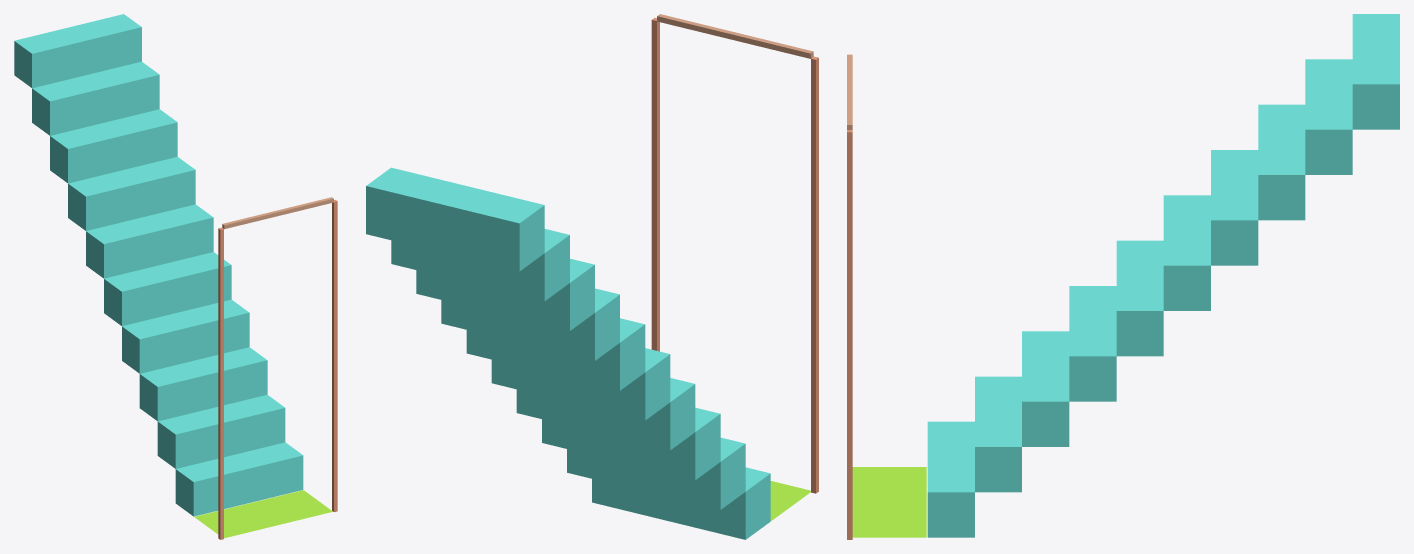
The model's file is stairs.fbx.
The picture shows the model from 3 angles, left to right: view 1: azimuth 30°, elevation 25°; view 2: azimuth 150°, elevation 25°; view 3: azimuth 270°, elevation 25°; orthographic projection. The views are drawn at different scales.
Parts seen in each view (by area): view 1: Step9, Step6, Step7, Step8, Step5, Step4, Step, Step1, Step2, Step3, Plane, Box1 (+2 smaller); view 2: Step9, Step3, Step4, Step5, Step2, Step, Step8, Step1, Step6, Step7, Box1, Box (+2 smaller); view 3: Step, Step4, Step7, Step3, Step9, Step2, Step6, Step8, Step5, Step1, Plane, Box.
Boxes of the visible parts, x1,y1,x2,y2 form: Step9: (14, 14, 141, 88); Step6: (68, 156, 195, 230); Step7: (50, 109, 177, 183); Step8: (32, 61, 159, 135); Step5: (86, 204, 213, 278); Step4: (104, 252, 231, 325); Step: (175, 442, 303, 516); Step1: (157, 394, 285, 468); Step2: (139, 347, 267, 421); Step3: (122, 299, 249, 373); Plane: (194, 490, 332, 538); Box1: (218, 227, 223, 539); Step9: (366, 167, 544, 271); Step3: (516, 378, 695, 450); Step4: (491, 348, 670, 420); Step5: (466, 318, 645, 390); Step2: (542, 407, 720, 480); Step: (592, 467, 770, 539); Step8: (391, 229, 569, 301); Step1: (567, 437, 745, 509); Step6: (441, 288, 619, 360); Step7: (416, 258, 594, 331); Box1: (811, 56, 818, 493); Box: (651, 18, 659, 351); Step: (927, 421, 974, 537); Step4: (1116, 240, 1163, 356); Step7: (1258, 104, 1305, 220); Step3: (1069, 286, 1116, 401); Step9: (1352, 14, 1399, 129); Step2: (1022, 331, 1069, 446); Step6: (1211, 150, 1258, 265); Step8: (1305, 59, 1352, 174); Step5: (1163, 195, 1210, 310); Step1: (975, 376, 1021, 492); Plane: (852, 467, 926, 537); Box: (847, 130, 852, 539).
Size of the model in its own units: 3208 by 9000 by 9950.
